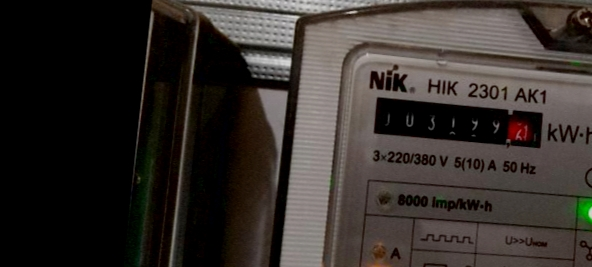0: (406, 107, 419, 127), (384, 105, 395, 124)
1: (451, 109, 462, 127)
3: (428, 109, 440, 130)
6: (516, 124, 527, 139)
9: (471, 110, 484, 131), (493, 114, 505, 133)
screen: (368, 83, 555, 156)
